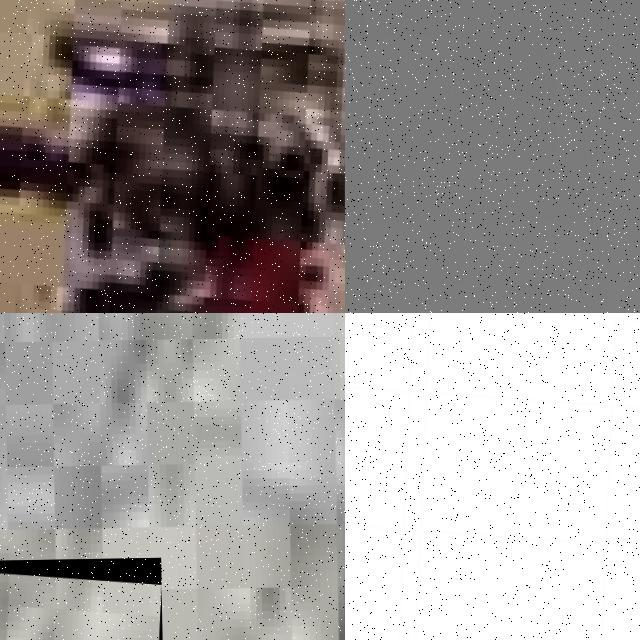drone: (0, 0, 345, 313), (345, 313, 640, 640)
